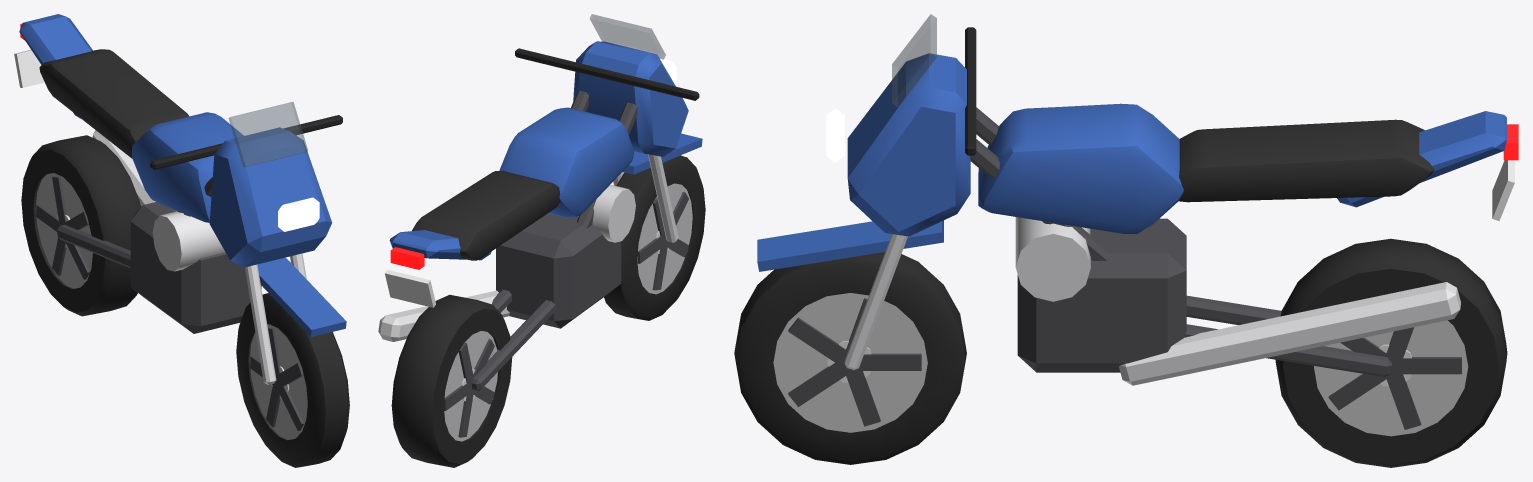
File: motorcycle.glb
3 views of the same model, side by side, from view 1: azimuth 30°, elevation 25°; view 2: azimuth 150°, elevation 25°; view 3: azimuth 270°, elevation 25° (orthographic). The views are drawn at different scales.
Parts seen in each view (by area): view 1: motorcycle_body, wheel_R, wheel_F, glass; view 2: motorcycle_body, wheel_R, wheel_F, glass; view 3: motorcycle_body, wheel_F, wheel_R, glass.
Part boxes in pixels (left/top/right/bottom): motorcycle_body: left=14, top=14, right=346, bottom=384; wheel_R: left=21, top=135, right=140, bottom=316; wheel_F: left=236, top=293, right=349, bottom=467; glass: left=228, top=102, right=307, bottom=167; motorcycle_body: left=378, top=41, right=702, bottom=391; wheel_R: left=391, top=294, right=512, bottom=467; wheel_F: left=604, top=155, right=705, bottom=320; glass: left=589, top=14, right=665, bottom=59; motorcycle_body: left=757, top=27, right=1518, bottom=385; wheel_F: left=734, top=252, right=966, bottom=464; wheel_R: left=1275, top=238, right=1507, bottom=467; glass: left=892, top=14, right=936, bottom=107.
Bounding box in the file's own units: 0.7599 × 1.25 × 2.09.
